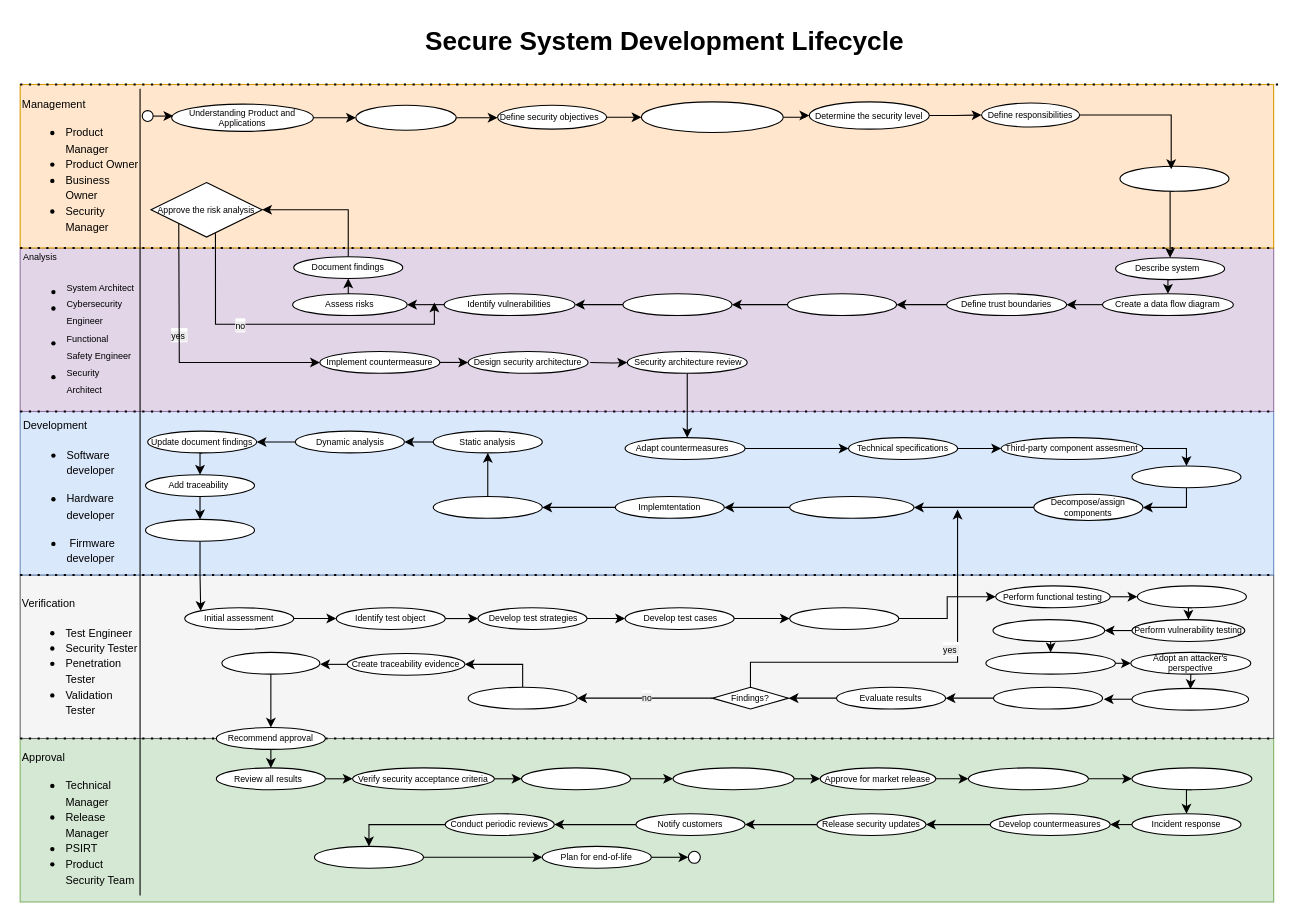
This 1300x921 diagram has some shape labels left out. Here are the shapes that lost their labels. From the top down, the centre of each, then its label:
(x=405, y=117): Identify stakeholders
(x=711, y=116): Analyze standards and legal requirements
(x=1174, y=178): Formulate security requirements
(x=677, y=304): Identify threats
(x=841, y=304): Identify assets
(x=1186, y=476): Adapt architecture
(x=487, y=506): Code reviews
(x=851, y=506): Apply secure coding guidelines
(x=199, y=529): Unit and developer tests
(x=1191, y=596): Perform negative testing
(x=844, y=618): Set up test environment
(x=1048, y=630): Perform penetration testing
(x=270, y=662): Prepare a test report
(x=1050, y=662): Software compostion analysis
(x=522, y=697): Document deviations
(x=1047, y=697): Perform fuzz testing
(x=1190, y=698): Perform robustness testing
(x=575, y=778): Make a release decision
(x=733, y=778): Finalize security documentation
(x=1027, y=778): Initiate security monitoring
(x=1191, y=778): Vulnerability management
(x=368, y=856): Reassess
